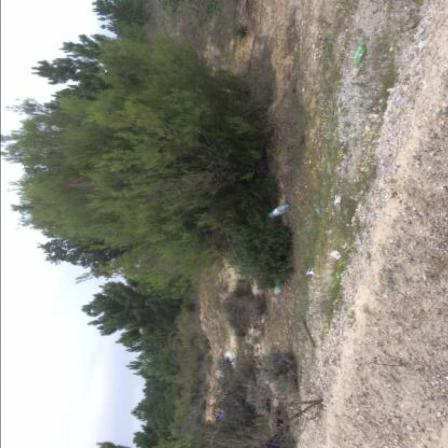Bottle: (270, 206, 291, 221)
Bottle cap: (286, 206, 290, 208)
Carton: (354, 47, 366, 65)
Unlabeled litter: (334, 195, 342, 207), (316, 209, 322, 215)
